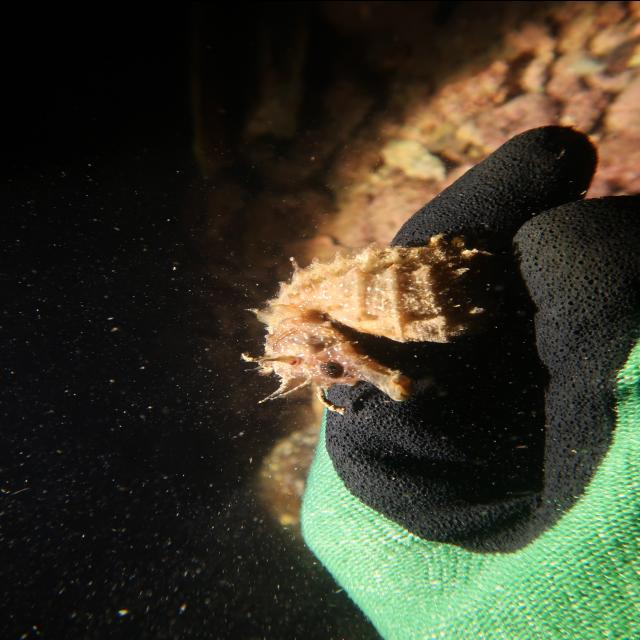Guttu: (260, 315, 411, 407)
